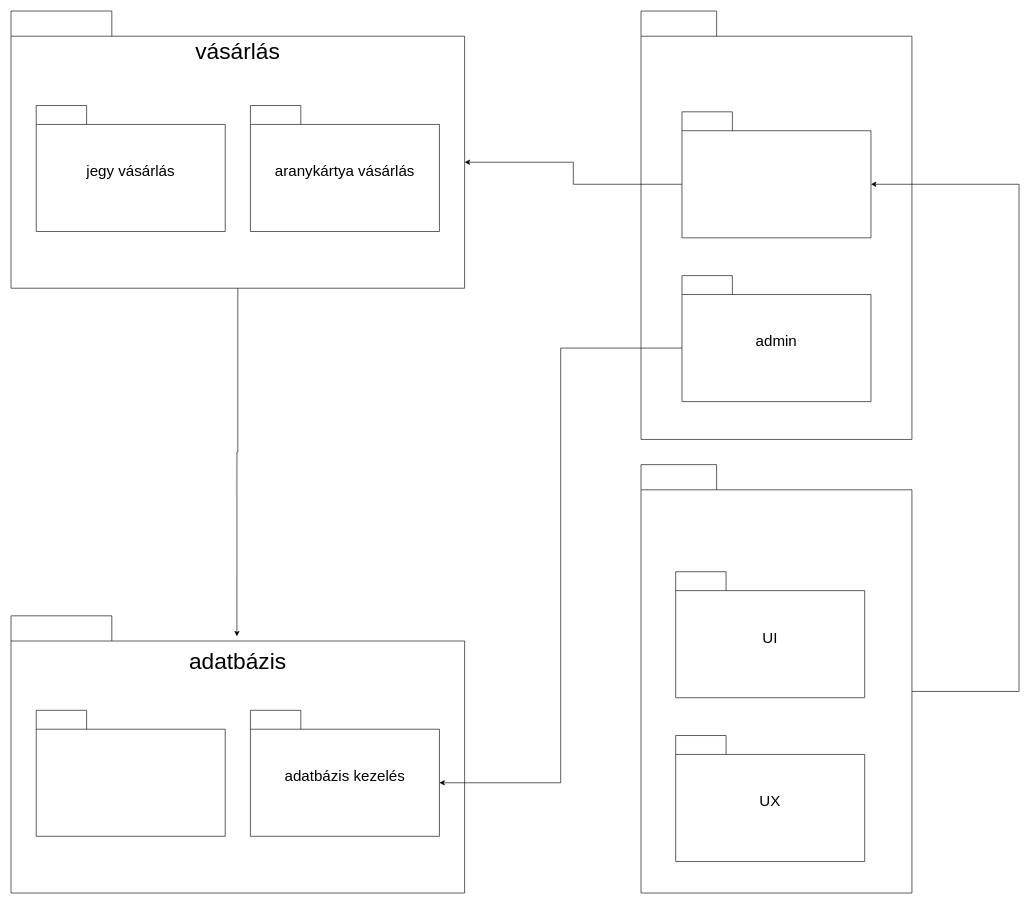
Some shapes in this 1035 by 904 pixel diagram are drawn without their labels. The box of each missing label's shape, as (x1, y1, x2, y2) in pixels:
adatok: (36, 710, 225, 836)
felhasználó: (681, 111, 871, 238)
jogosultságok: (640, 10, 912, 439)
kialakítás: (640, 464, 912, 893)
